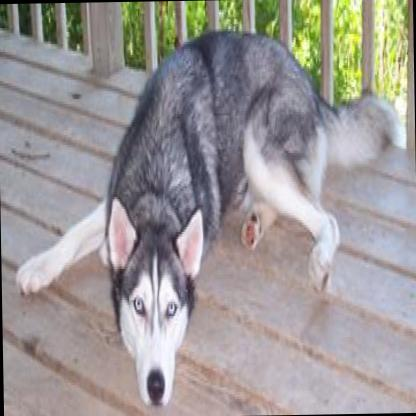Siberian_husky: (8, 23, 403, 405)
